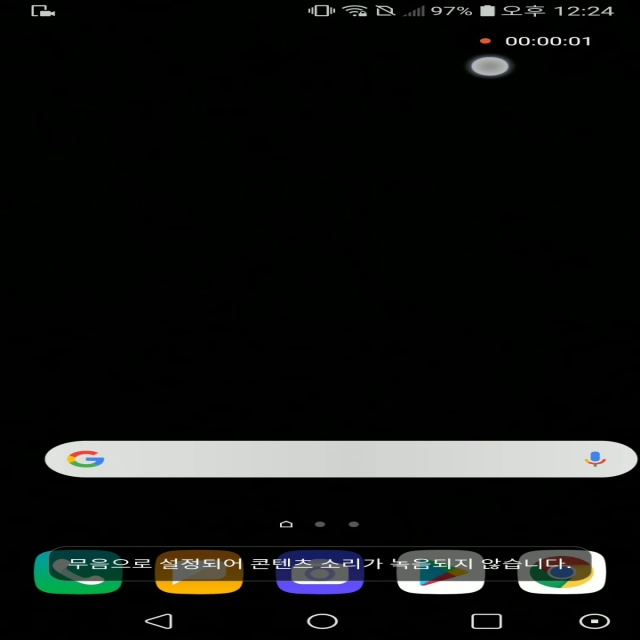Cursor: (469, 56, 513, 78)
